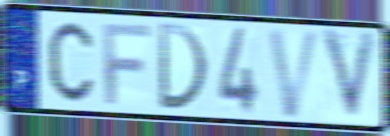4: (216, 25, 261, 117)
C: (46, 19, 96, 105)
D: (155, 20, 210, 114)
F: (100, 21, 153, 107)
V: (319, 27, 381, 127), (265, 26, 324, 120)
